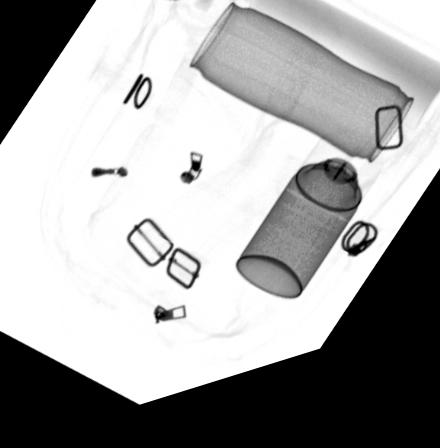Sprayer: (232, 150, 387, 319)
